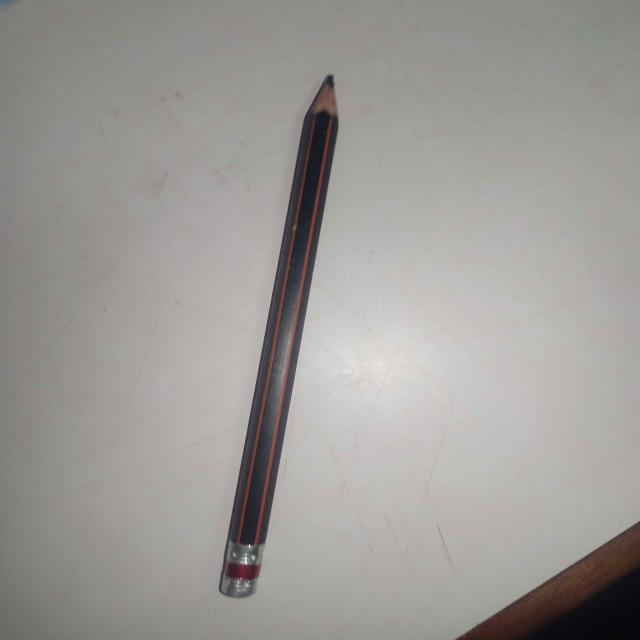pen_pencil: (166, 47, 391, 638)
